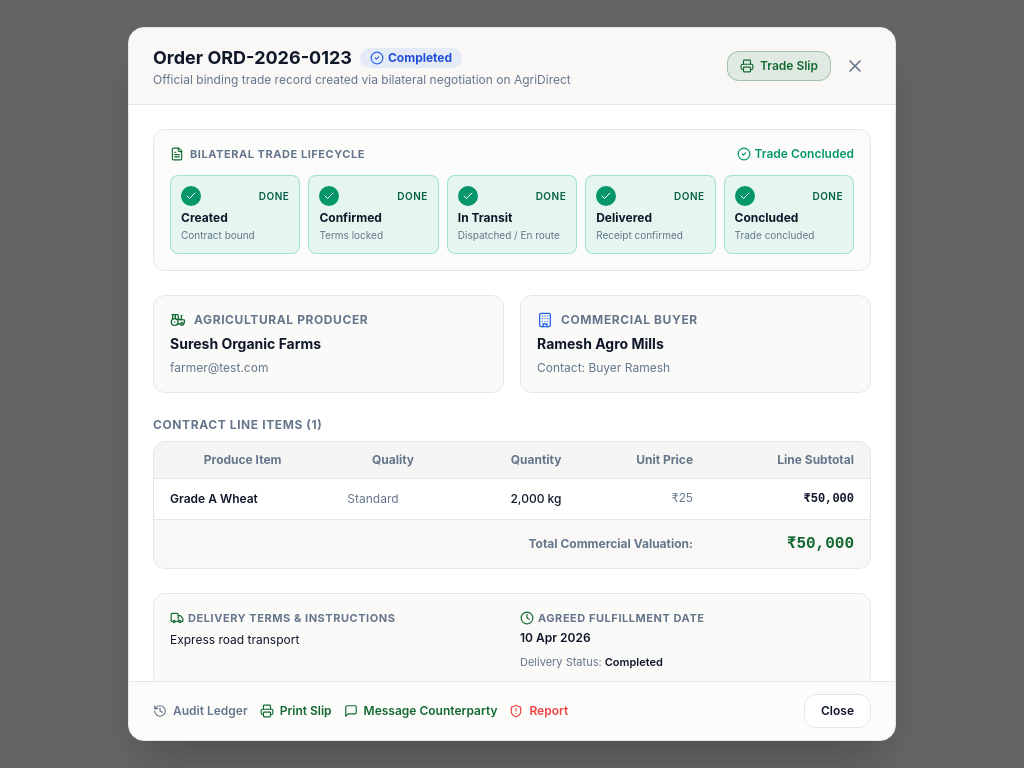
OrderDetailModal — Bilateral Delivery Acknowledgement › renders Trade Slip button for confirmed or completed order and opens slip modal on click
Check: the heading "Order ORD-2026-0123" is shown, box x1=153 y1=44 x2=352 y2=72
// Click Trade Slip button
Click the button "Trade Slip": [779, 66] box x1=727 y1=51 x2=831 y2=81
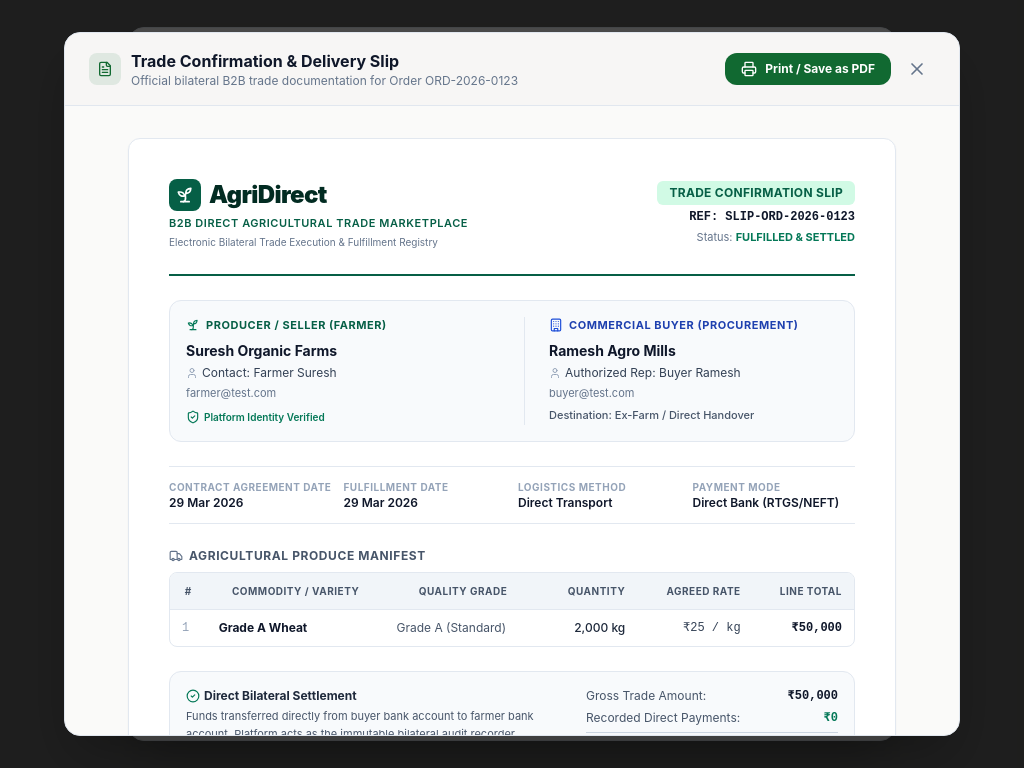
Check: the heading "Trade Confirmation & Delivery Slip" is shown, box x1=131 y1=51 x2=399 y2=71
Check: the text "REF: SLIP-ORD-2026-0123" is shown, box x1=689 y1=210 x2=855 y2=224
